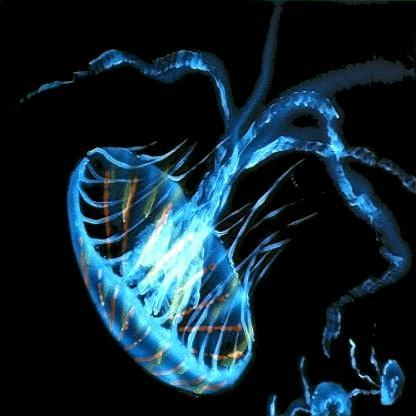Mosaic: (64, 46, 394, 396), (259, 357, 352, 415), (349, 342, 407, 407)
